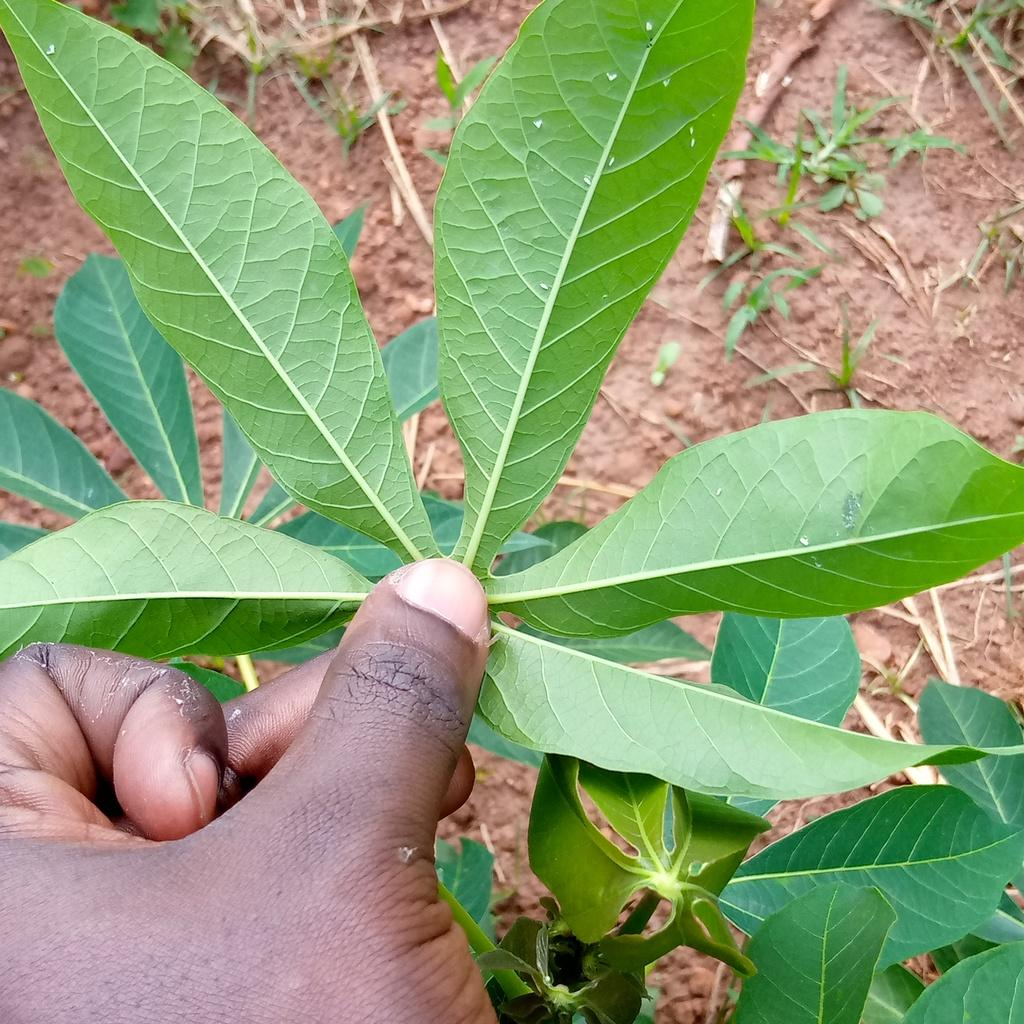adult: (45, 44, 56, 54), (799, 536, 809, 546), (607, 72, 617, 81), (583, 176, 592, 186), (645, 21, 653, 32), (533, 119, 542, 128), (715, 487, 722, 496), (608, 157, 615, 166), (690, 138, 696, 147), (663, 79, 670, 86), (540, 283, 548, 289), (689, 126, 695, 134)
